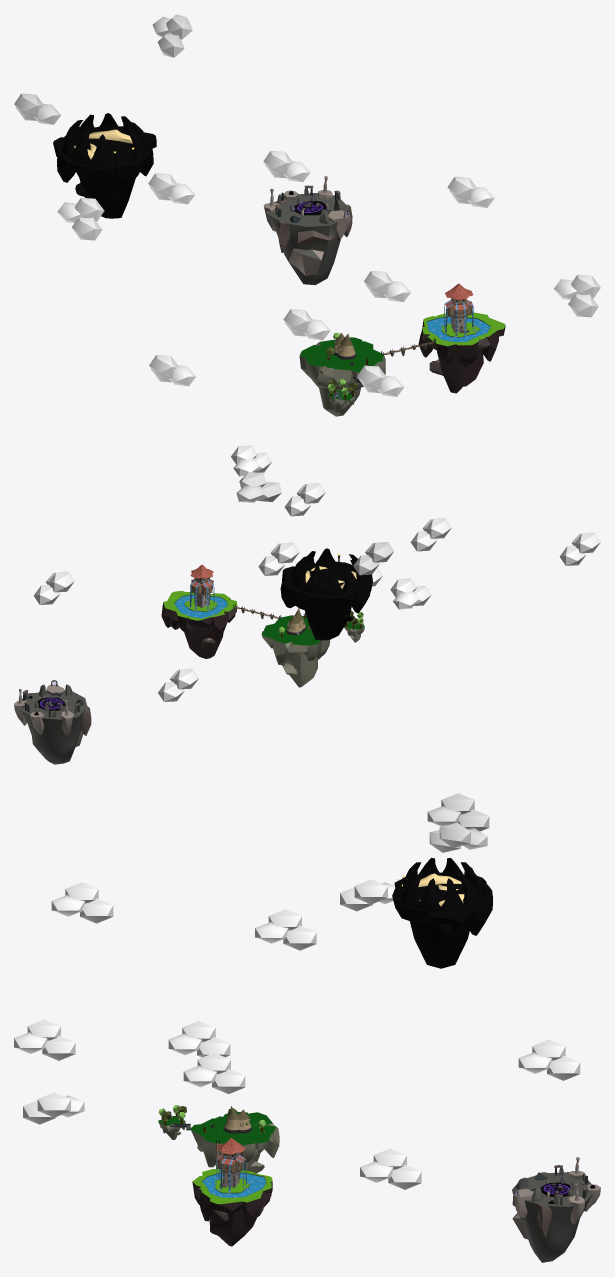
File: Fantasy_Islands.fbx
3 renders of one model, top to bottom at view 1: azimuth 30°, elevation 25°; view 2: azimuth 150°, elevation 25°; view 3: azimuth 270°, elevation 25°, orthographic. The views are drawn at different scales.
Parts seen in each view (by area): view 1: IslandHouse_1, IslaDragon, IslaGolem, IslaA, IslandHouse, IslandHouse_2, Torre; view 2: IslandHouse_1, IslaDragon, IslaGolem, IslaA, IslandHouse, IslandHouse_2, Torre; view 3: IslandHouse_1, IslaDragon, IslaGolem, IslaA, IslandHouse_2, IslandHouse, Torre.
Boxes of the visible parts, x1,y1,x2,y2 form: IslandHouse_1: (57, 151, 600, 416); IslaDragon: (53, 113, 435, 355); IslaGolem: (263, 176, 362, 399); IslaA: (418, 312, 505, 393); IslandHouse: (152, 14, 192, 57); IslandHouse_2: (14, 93, 60, 124); Torre: (445, 283, 473, 333); IslandHouse_1: (33, 445, 600, 701); IslaDragon: (233, 548, 372, 640); IslaGolem: (14, 621, 363, 764); IslaA: (161, 591, 237, 658); IslandHouse: (236, 472, 281, 502); IslandHouse_2: (353, 542, 394, 575); Torre: (190, 564, 213, 607); IslandHouse_1: (14, 879, 580, 1189); IslaDragon: (216, 857, 492, 1169); IslaGolem: (167, 1111, 600, 1262); IslaA: (192, 1169, 272, 1246); IslandHouse_2: (427, 793, 489, 831); IslandHouse: (429, 823, 487, 852); Torre: (216, 1137, 245, 1187).
Bounding box in the file's own units: 61871 × 42103 × 64618.
7 materials, 7 textured.
